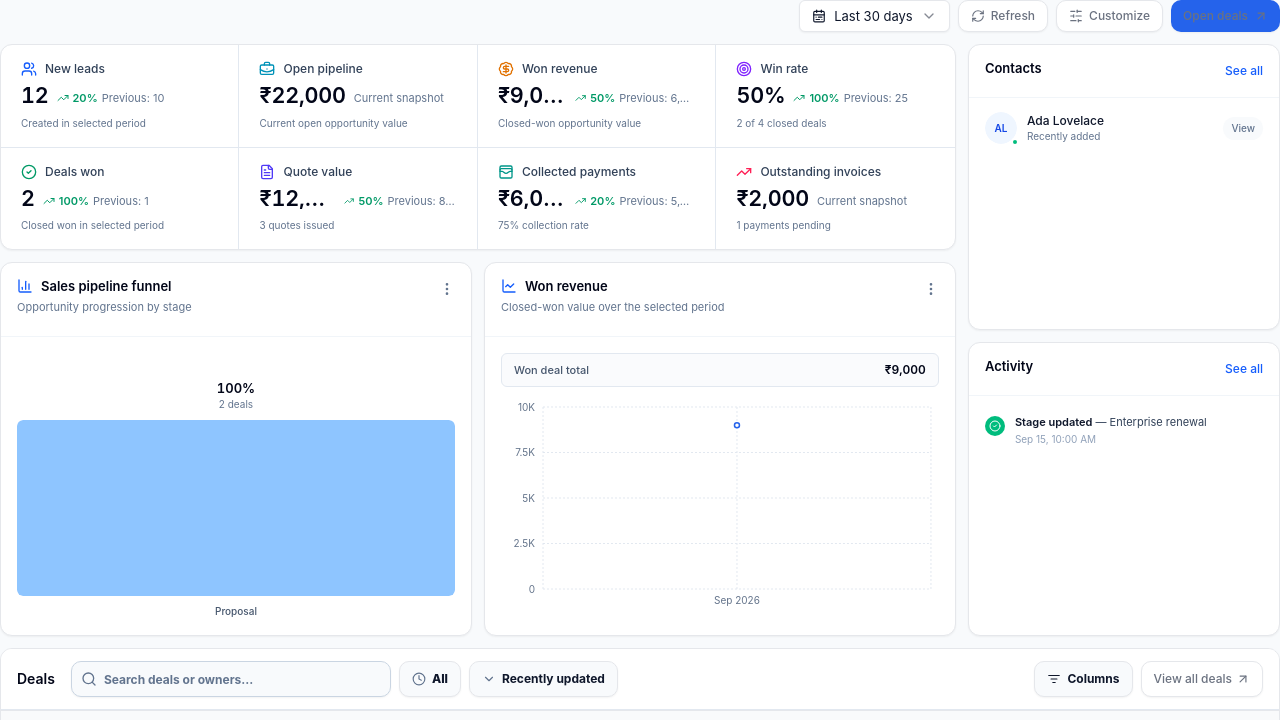
Test case: DashboardView › shows widget-save failures inside the open dialog
The width and height of the screenshot is (1280, 720).
Click the button "Customize".
click(1110, 16)  # box [1056,0,1163,32]
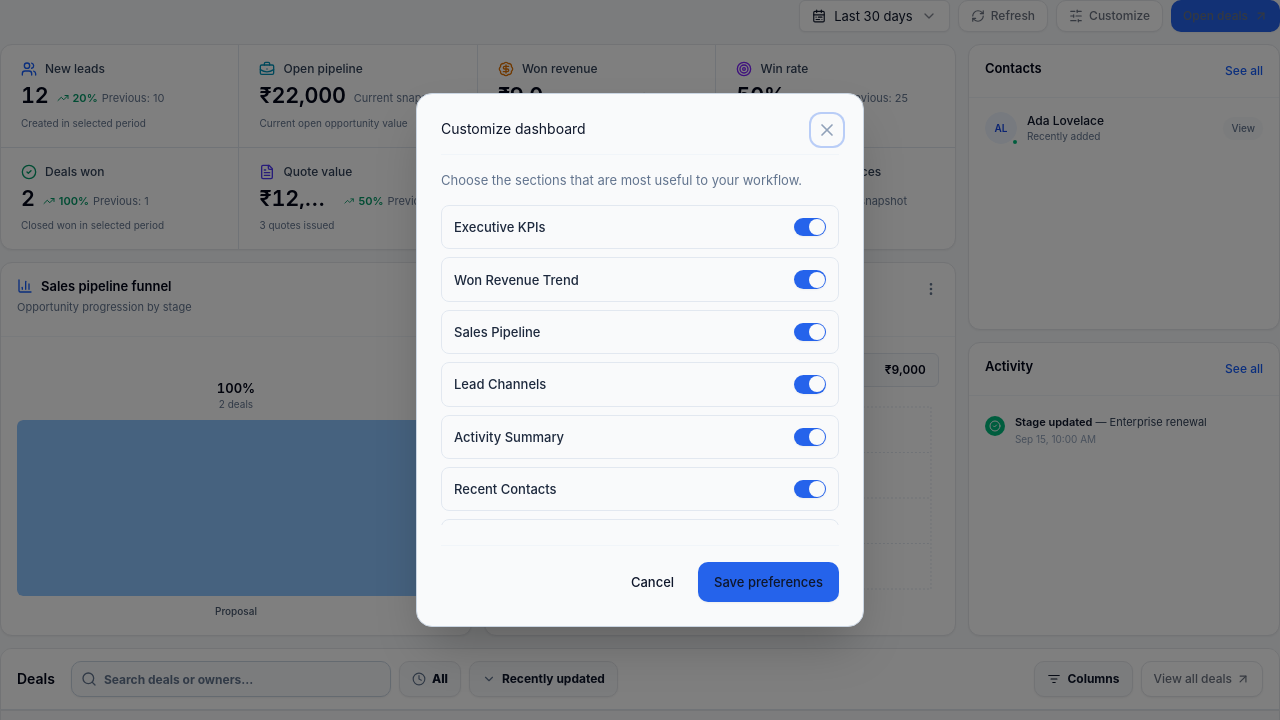
Click the button "Save preferences".
click(768, 582)  # box [698,562,839,602]
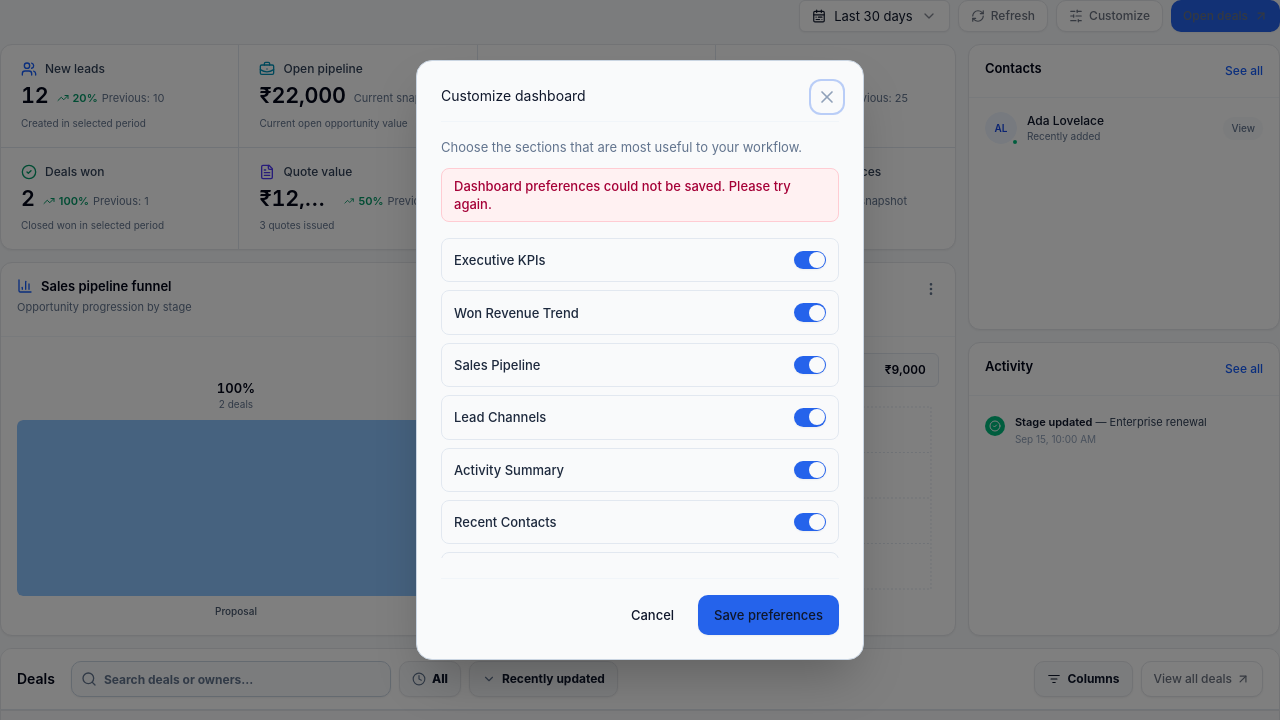
Check: the dialog is shown, box [416,60,864,660]
Check: the message shows "Dashboard preferences could not be saved", box [454,178,791,212]
